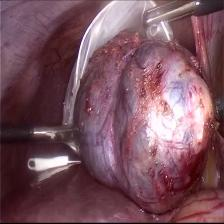Grasper: (140, 0, 200, 31), (30, 123, 80, 149)
Specimen Bag: (60, 0, 173, 157)
